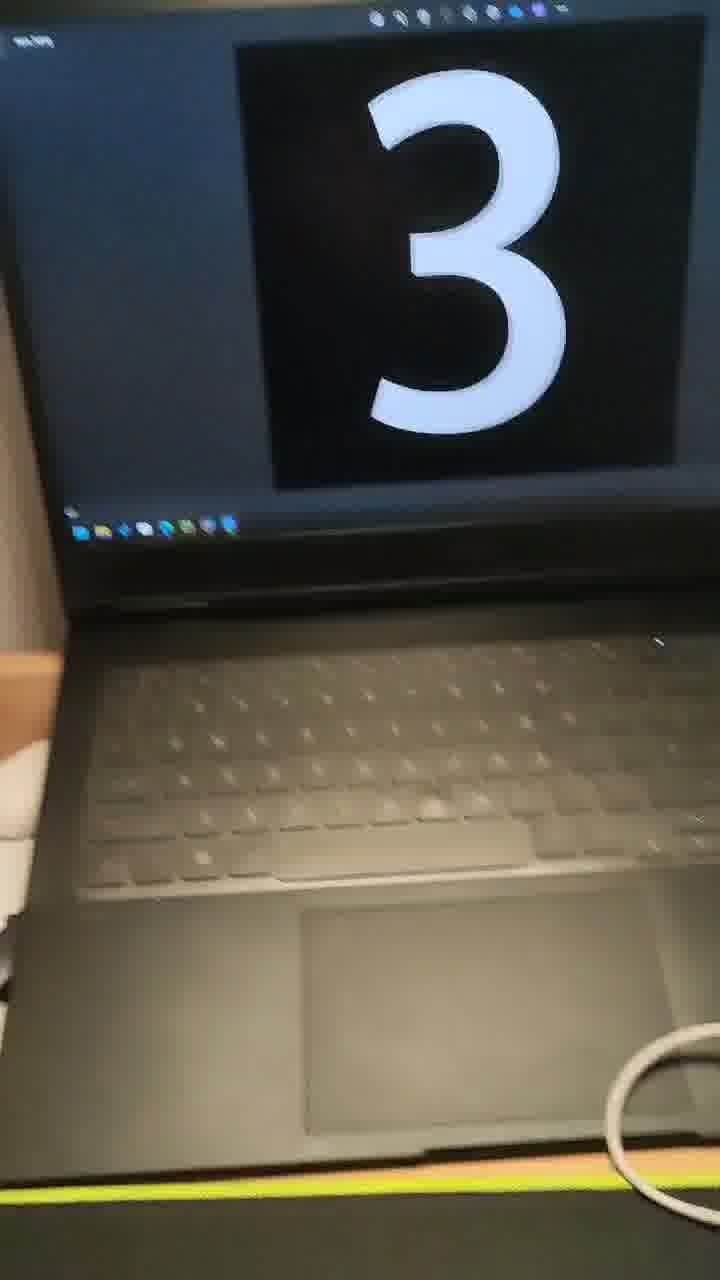three: (334, 57, 636, 547)
